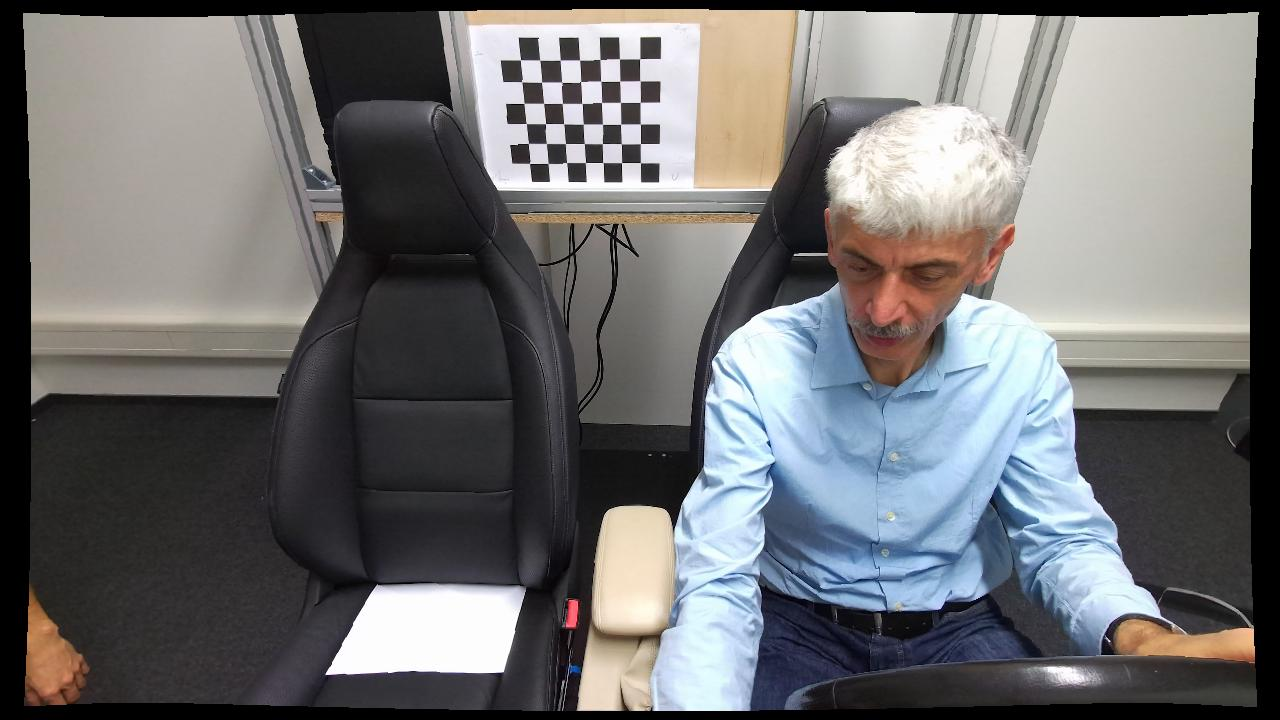Distracted: (652, 98, 1099, 713)
